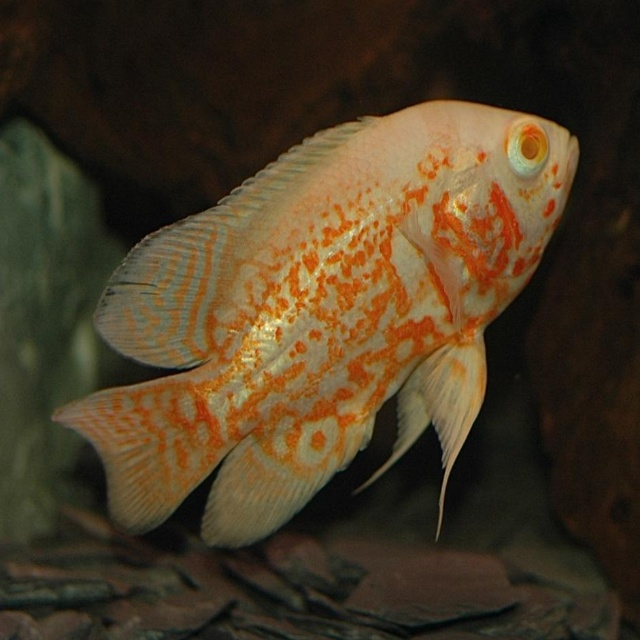Goldfish: (50, 96, 577, 540)
